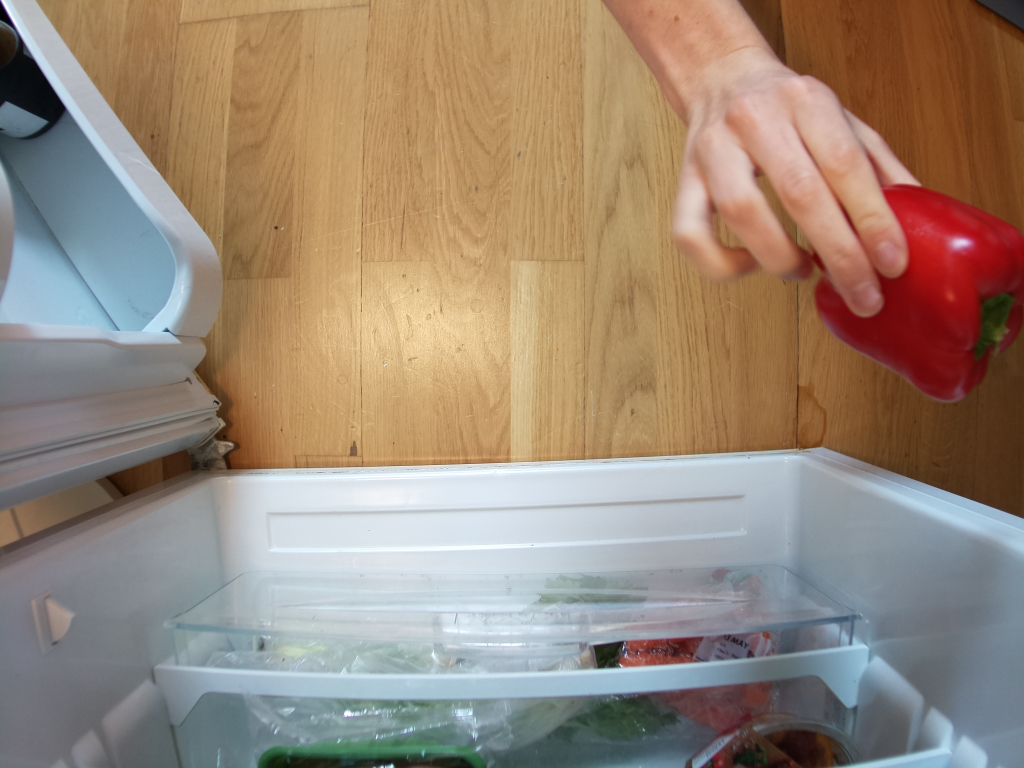pepper: (814, 187, 1024, 407)
